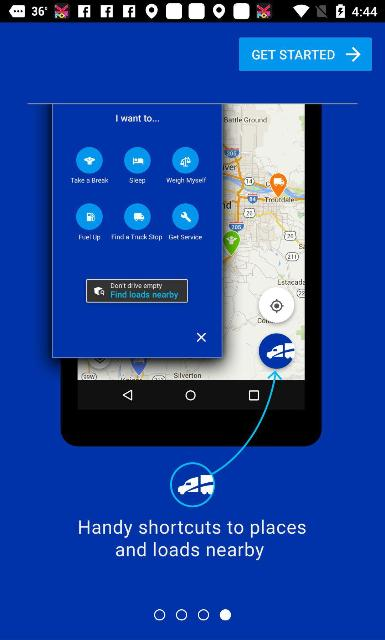Icon: (346, 46, 360, 62)
Image: (52, 103, 322, 507)
PageIndicator: (153, 608, 231, 620)
Text: (78, 520, 306, 560), (253, 50, 335, 60)
TextImageButton: (239, 37, 372, 71)
UpperTaskBar: (0, 0, 384, 22)
